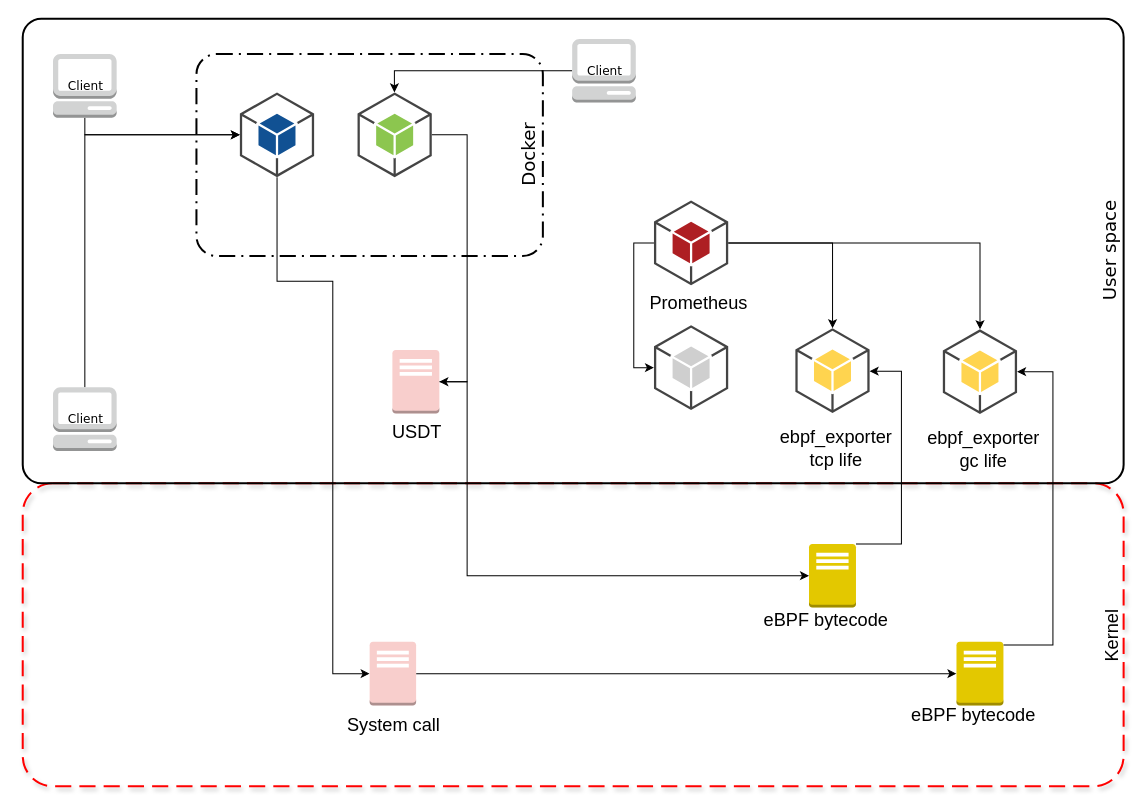
This 1147x811 diagram has some shape labels left out. Here are the shapes that lost their labels. From the top down, the centre of each, then its label:
pixel 276 134: Apache
pixel 394 134: Node.Js
pixel 690 367: Other exporter
